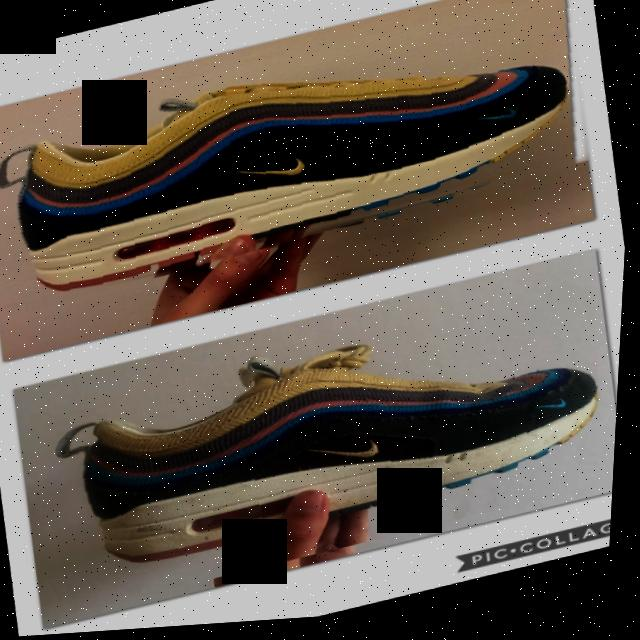shoe: (26, 289, 625, 620), (0, 0, 614, 321)
